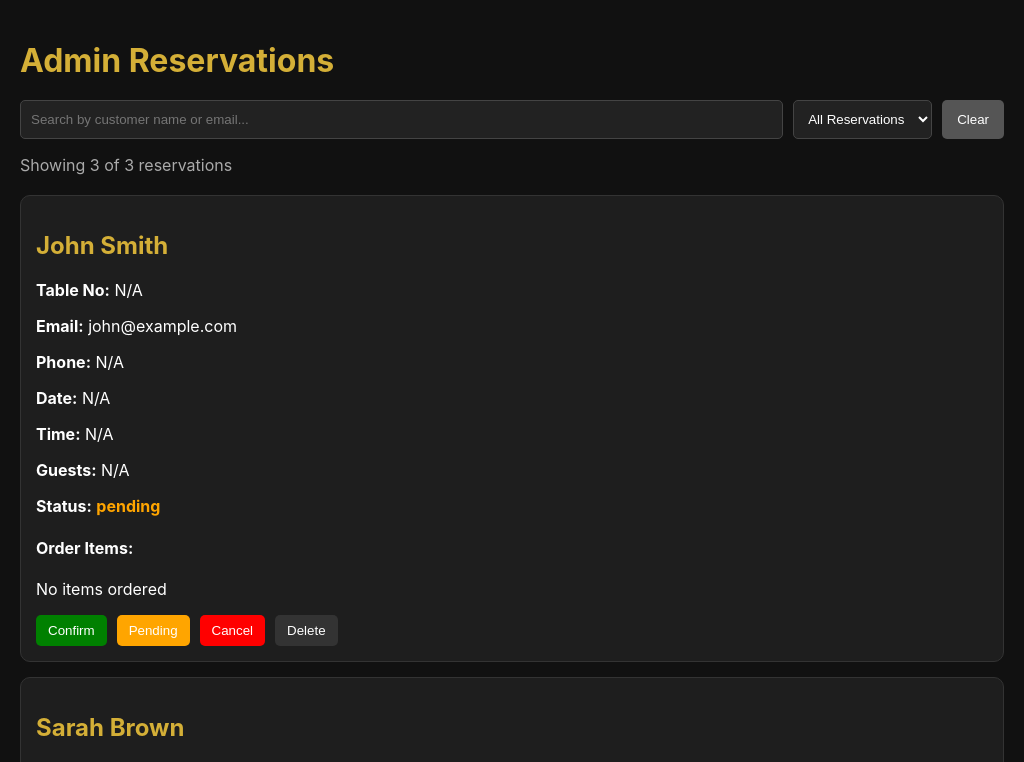
Test case: searches reservations by customer email
Expected: the heading "John Smith" is shown, top-left (36, 231), bottom-right (168, 260)
In the field with placeholder "Search by customer name or email...": point(402, 120) top-left (20, 100), bottom-right (783, 139), type "michael@example.com"
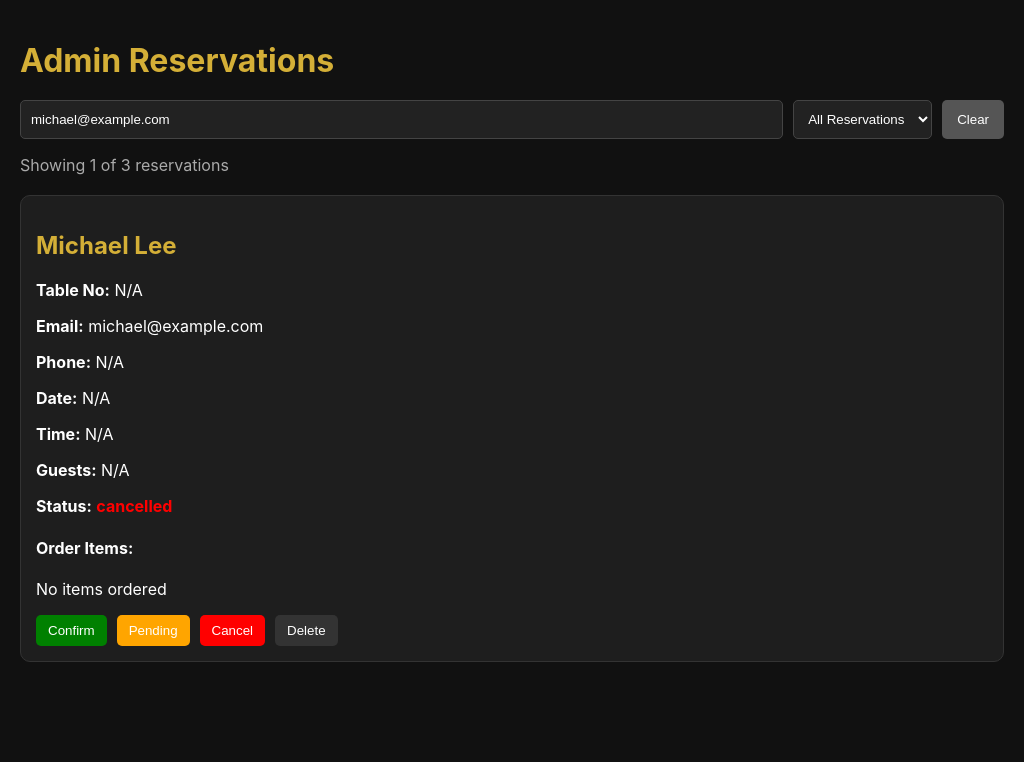
Expected: the heading "Michael Lee" is shown, top-left (36, 231), bottom-right (176, 260)
Expected: the heading "John Smith" is gone
